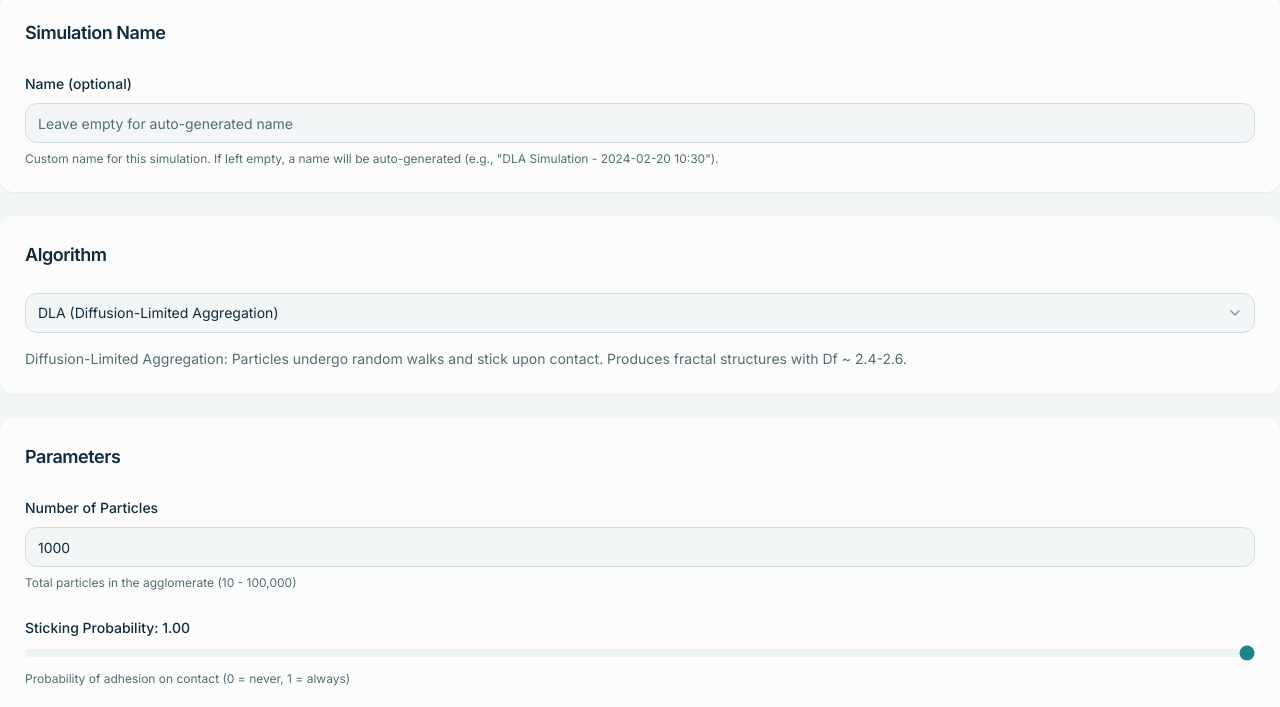
it: SimulationForm — Seed Type dropdown (T5.1) › renders helper text explaining FZR origin
Select "Tunable CC (Cluster-Cluster)" in the dropdown: x=640, y=313 [25,293,1255,333]
(page scrolled)
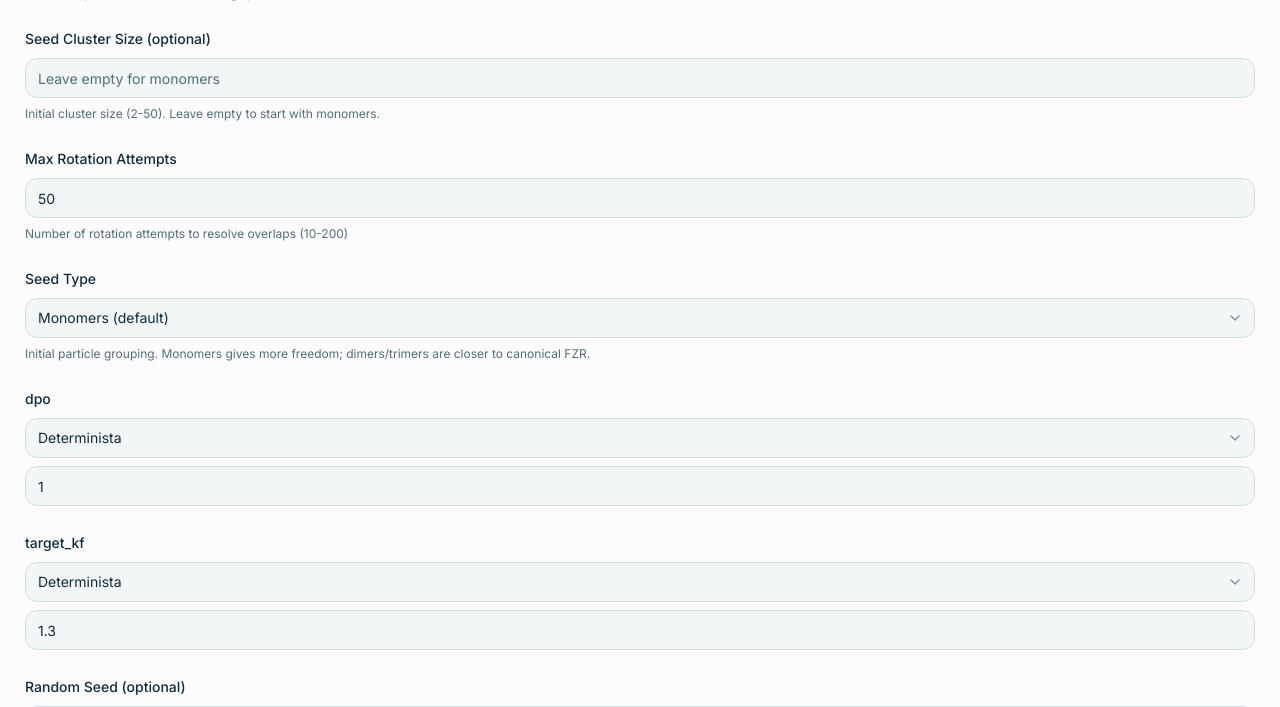
Now the text "Initial particle grouping" is shown, box [25,346,590,361]
